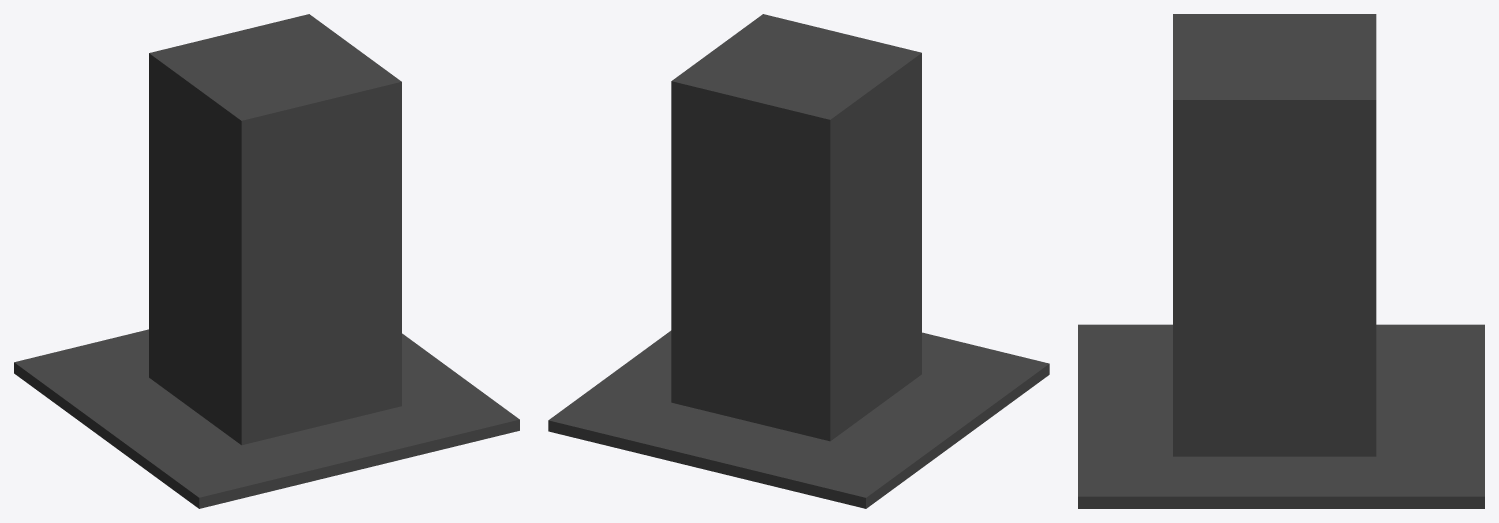
Rendered from house1.obj.
3 renders of one model, left to right at view 1: azimuth 30°, elevation 25°; view 2: azimuth 150°, elevation 25°; view 3: azimuth 270°, elevation 25°, orthographic. The views are drawn at different scales.
Size of the model in its own units: 30 by 30 by 30.
